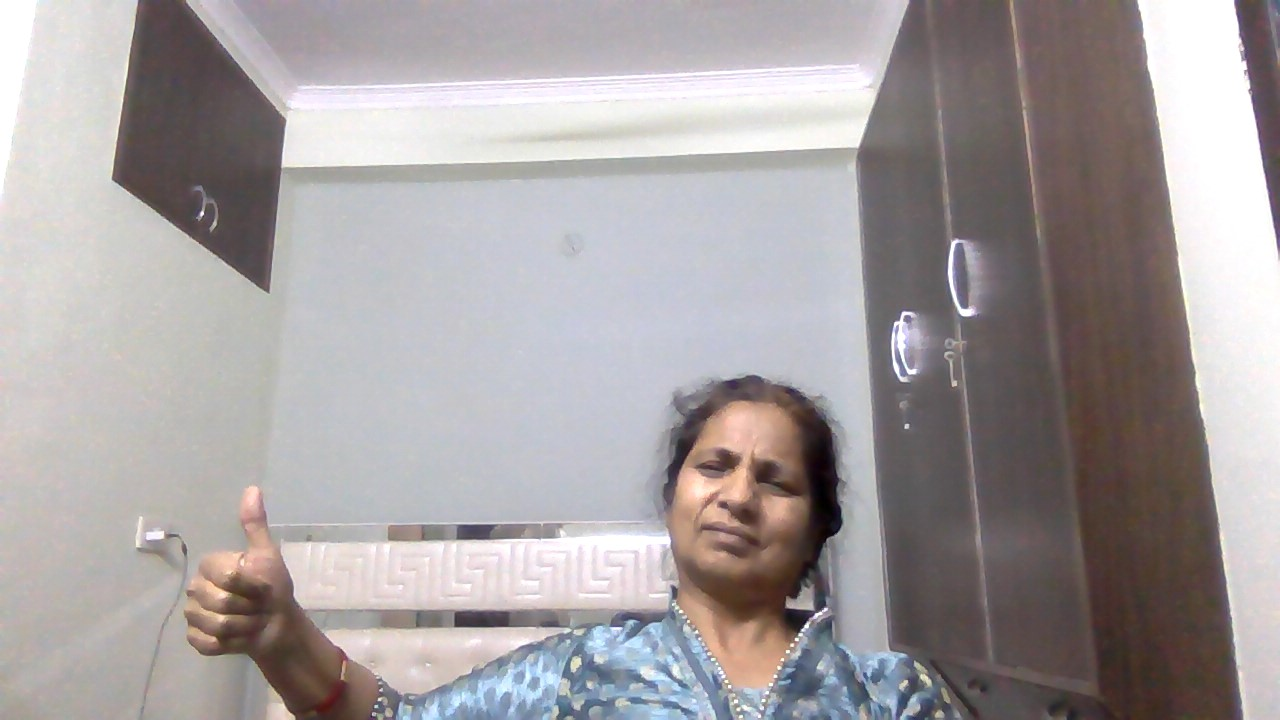Save: (177, 477, 315, 675)
